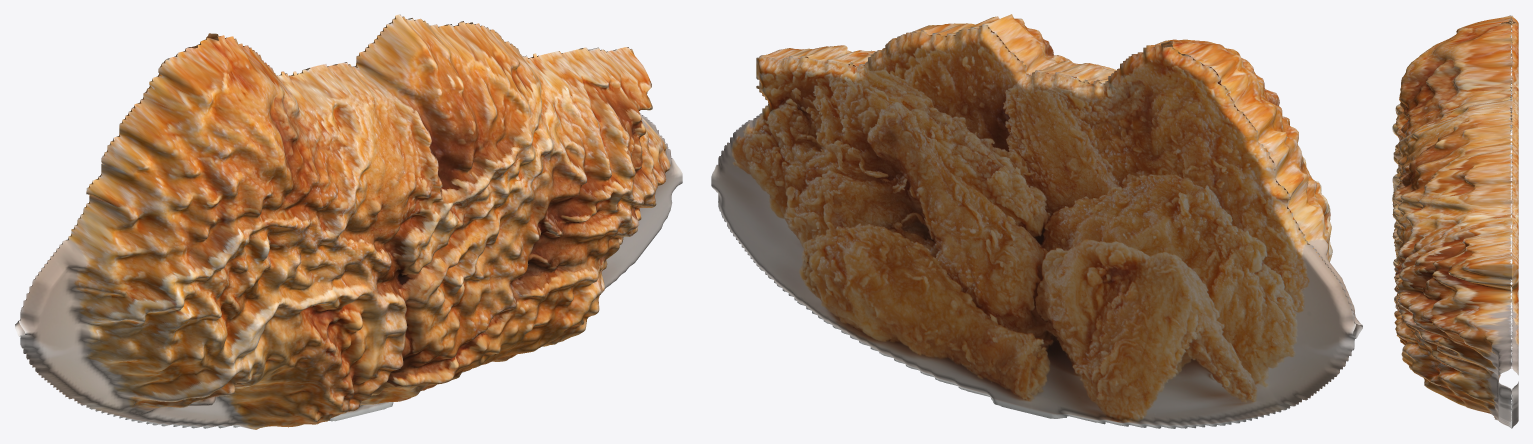
Rendered from fried_chicken_plate.fbx.
3 renders of one model, left to right at view 1: azimuth 30°, elevation 25°; view 2: azimuth 150°, elevation 25°; view 3: azimuth 270°, elevation 25°, orthographic. The views are drawn at different scales.
Visible parts, largest first — view 1: fried_chicken_plate; view 2: fried_chicken_plate; view 3: fried_chicken_plate.
Boxes of the visible parts, bbox=[...] form: fried_chicken_plate: bbox=[15, 14, 682, 429]; fried_chicken_plate: bbox=[711, 14, 1362, 428]; fried_chicken_plate: bbox=[1392, 15, 1518, 428].
Bounding box in the file's own units: 30 × 17.81 × 6.64.
Materials: 1 (1 with a texture image).
